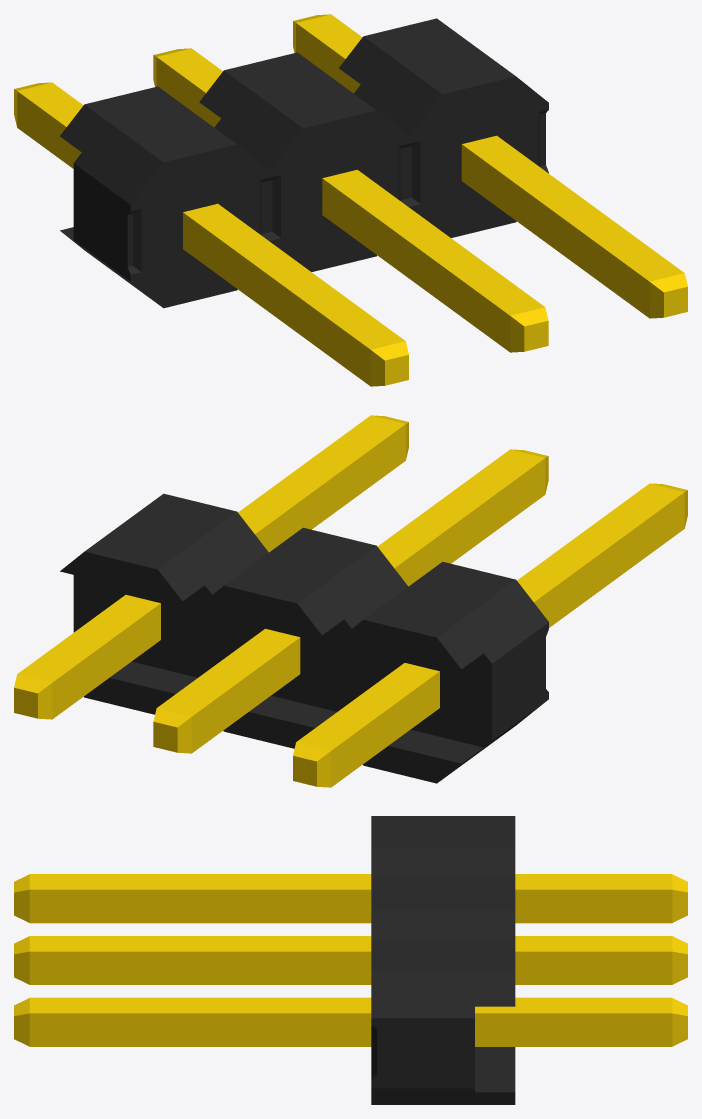
File: PLS-3_(DS1021_CONNFLY).obj
3 views of the same model, one above another, from view 1: azimuth 30°, elevation 25°; view 2: azimuth 150°, elevation 25°; view 3: azimuth 270°, elevation 25° (orthographic). The views are drawn at different scales.
Visible parts, largest first — view 1: PLS-3_(DS1021_CONNFLY); view 2: PLS-3_(DS1021_CONNFLY); view 3: PLS-3_(DS1021_CONNFLY).
Boxes of the visible parts, x1=… form: PLS-3_(DS1021_CONNFLY): x1=14, y1=14, x2=687, y2=386; PLS-3_(DS1021_CONNFLY): x1=14, y1=415, x2=687, y2=787; PLS-3_(DS1021_CONNFLY): x1=14, y1=816, x2=687, y2=1104.
Bounding box in the file's own units: 0.0108 × 0.00358 × 0.0165.
